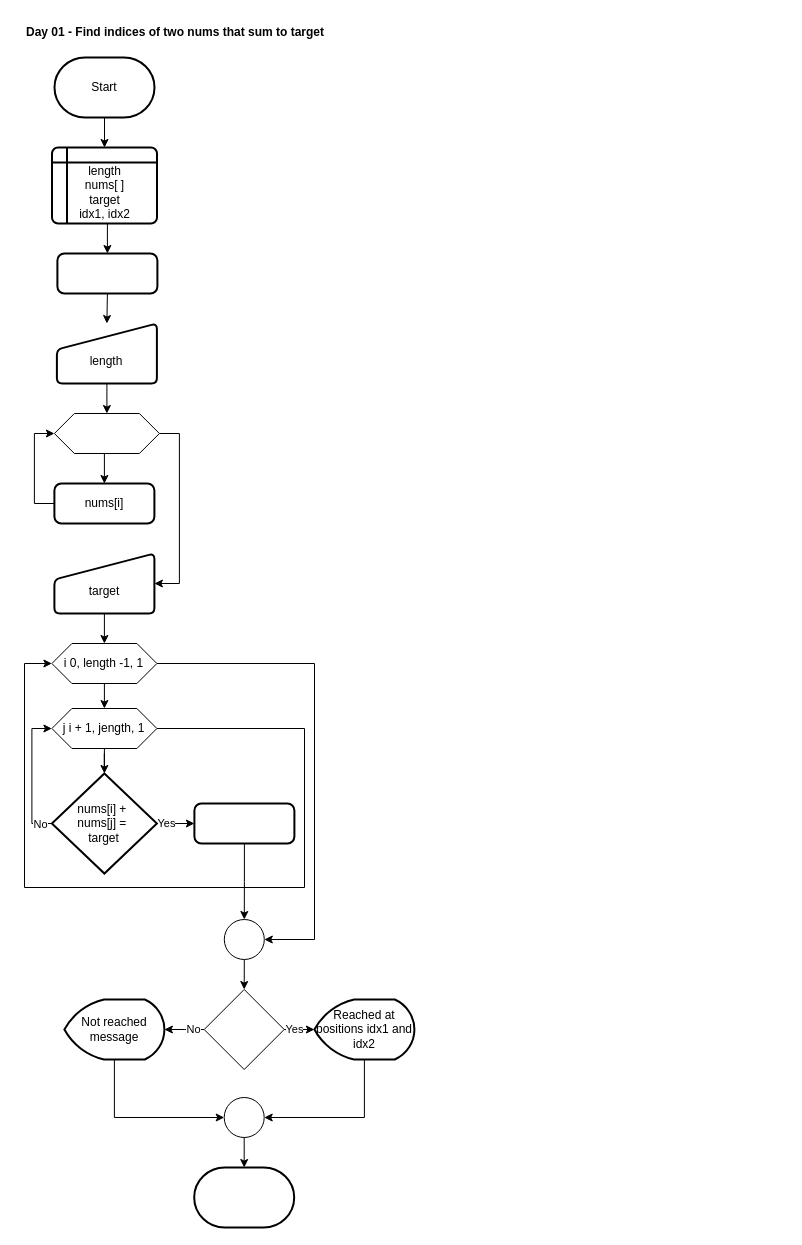
The diagram is 802 pixels wide and 1245 high, and some of its shapes have lost their labels. Here are the shapes that lost their labels. From the top down, the centre of each, then its label:
At [107,273]: "idx1 = -1 idx2 = -1".
At [106,433]: "i 0, length, 1".
At [244,823]: "idx1 = i+1 idx2 = j+1".
At [243,1029]: "idx1>=0 and idx2>=0".
At [244,1197]: "Stop".
